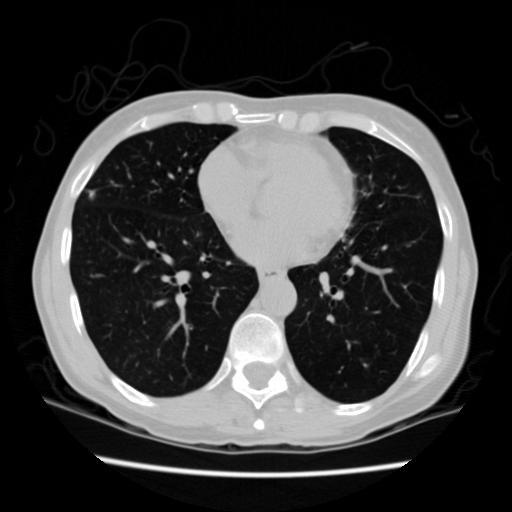nodule: (83, 187, 99, 203)
